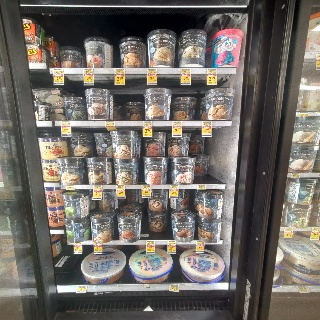All PRICE TAGS: (76, 285, 87, 291), (297, 286, 308, 292), (169, 284, 179, 290), (52, 68, 64, 73), (169, 184, 179, 189), (299, 112, 309, 117), (83, 68, 93, 73), (114, 68, 124, 73), (147, 68, 157, 73), (207, 68, 217, 73), (146, 240, 155, 245), (94, 185, 103, 190), (202, 121, 211, 126), (173, 121, 182, 126), (143, 121, 152, 126), (106, 121, 115, 126), (291, 173, 300, 178), (181, 68, 190, 73), (61, 121, 70, 126), (73, 241, 83, 245), (142, 184, 150, 189), (285, 227, 293, 232), (167, 240, 176, 244), (116, 185, 125, 189), (196, 240, 204, 244), (198, 185, 206, 189), (67, 185, 75, 189), (313, 228, 320, 232)
